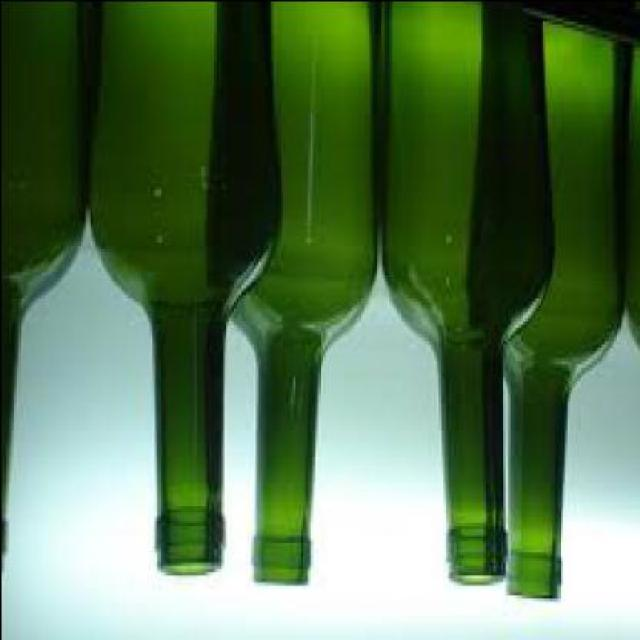GLASS: (89, 3, 285, 577), (380, 3, 554, 588), (232, 3, 383, 588), (504, 3, 624, 600), (2, 3, 87, 577), (624, 49, 638, 356)
